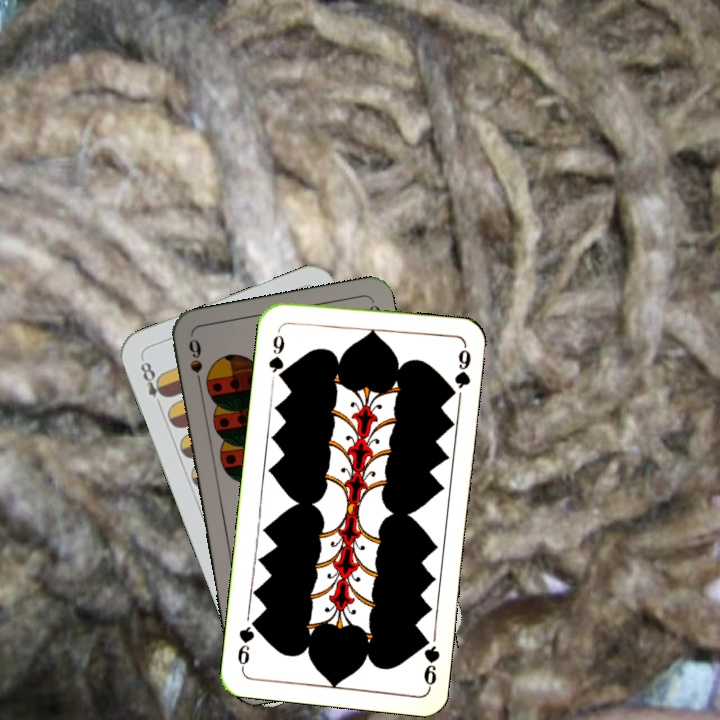E8: (136, 357, 170, 412)
G9: (417, 630, 443, 691), (264, 323, 287, 383)
S9: (184, 334, 205, 393)
